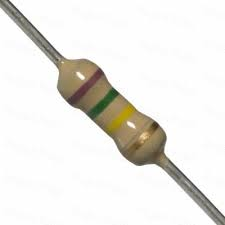resistor: (42, 38, 190, 187)
